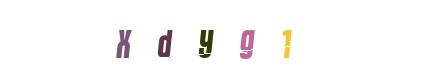1: (247, 0, 327, 80)
D: (166, 0, 246, 80)
G: (181, 0, 261, 80)
X: (107, 0, 187, 80)
Y: (173, 0, 253, 80)
